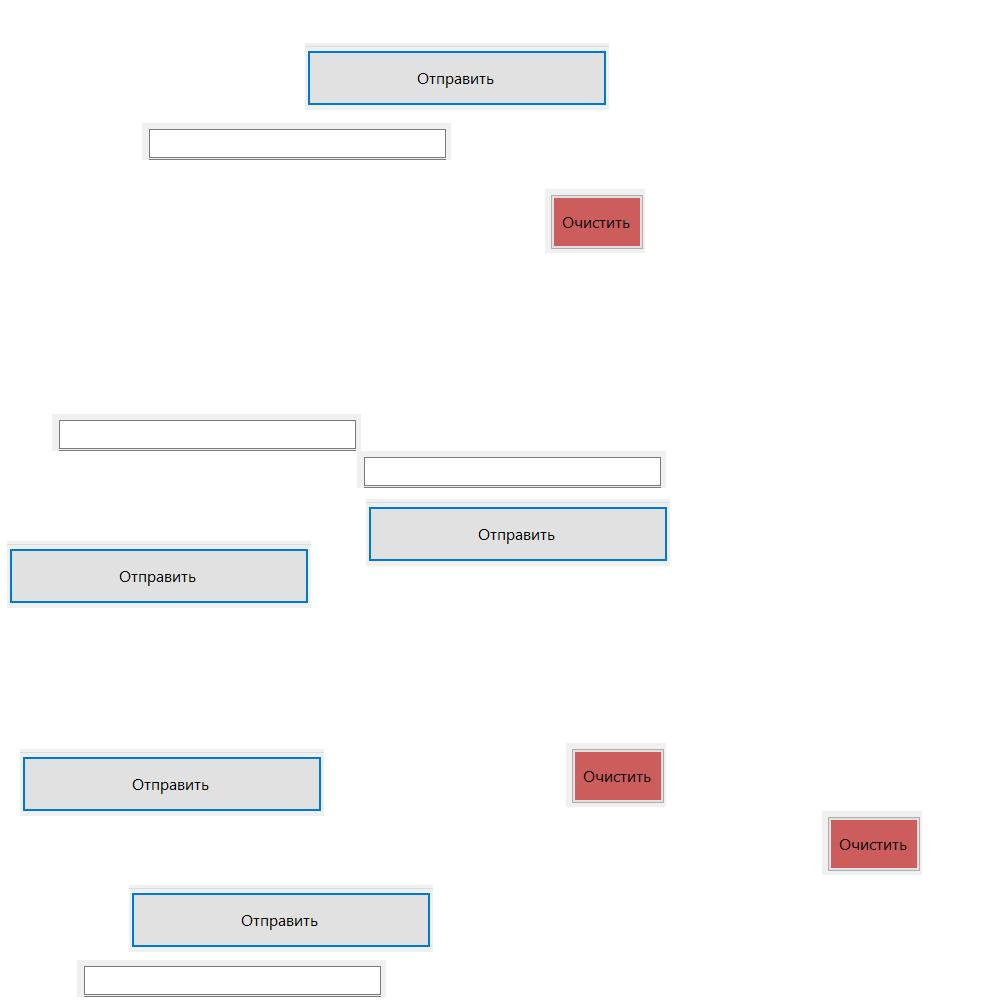Button: (305, 43, 609, 110), (7, 541, 311, 608), (129, 885, 433, 952), (20, 749, 324, 816), (366, 499, 670, 566), (545, 189, 645, 253), (822, 811, 922, 875), (566, 743, 666, 807)
EditText-: (357, 451, 666, 488), (52, 414, 361, 451), (77, 960, 386, 997), (142, 123, 451, 160)
